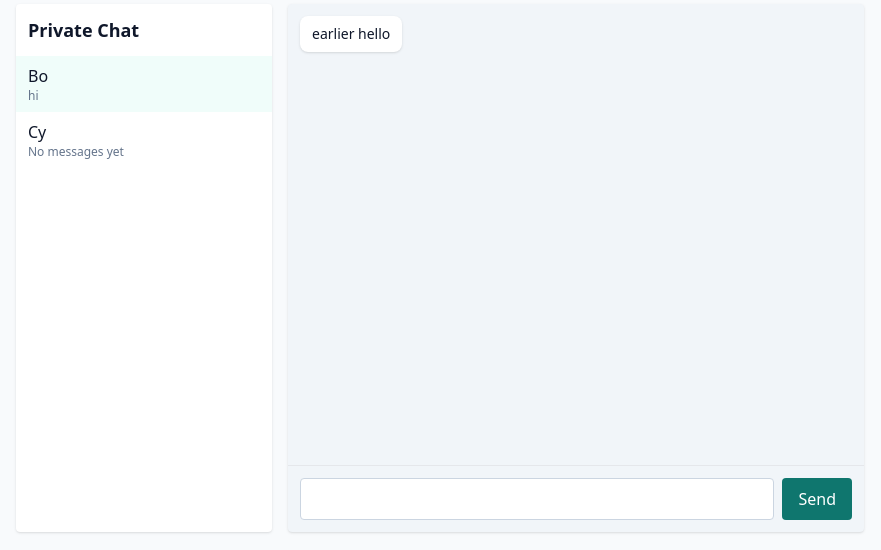
Test case: Chat page › shows_the_sent_message_once_the_server_acknowledges_it
Expected: the list item "earlier hello" is shown, [300,16,402,52]
In the field named "Message": x=537, y=499 [300,478,774,520], type "on my way"
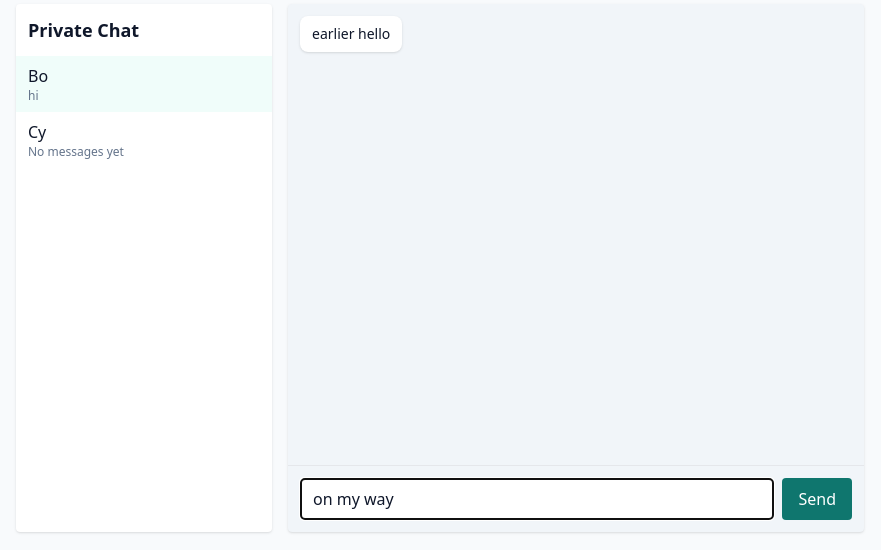
Click the button "Send": x=817, y=499 [782,478,852,520]
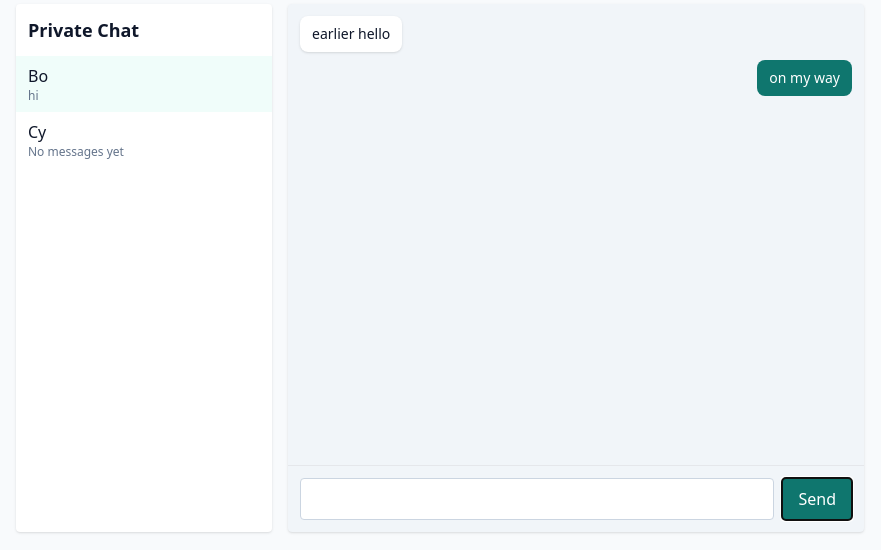
Result: the list item "on my way" is shown at [757,60,852,96]
Result: the field named "Message" is empty at [300,478,774,520]
